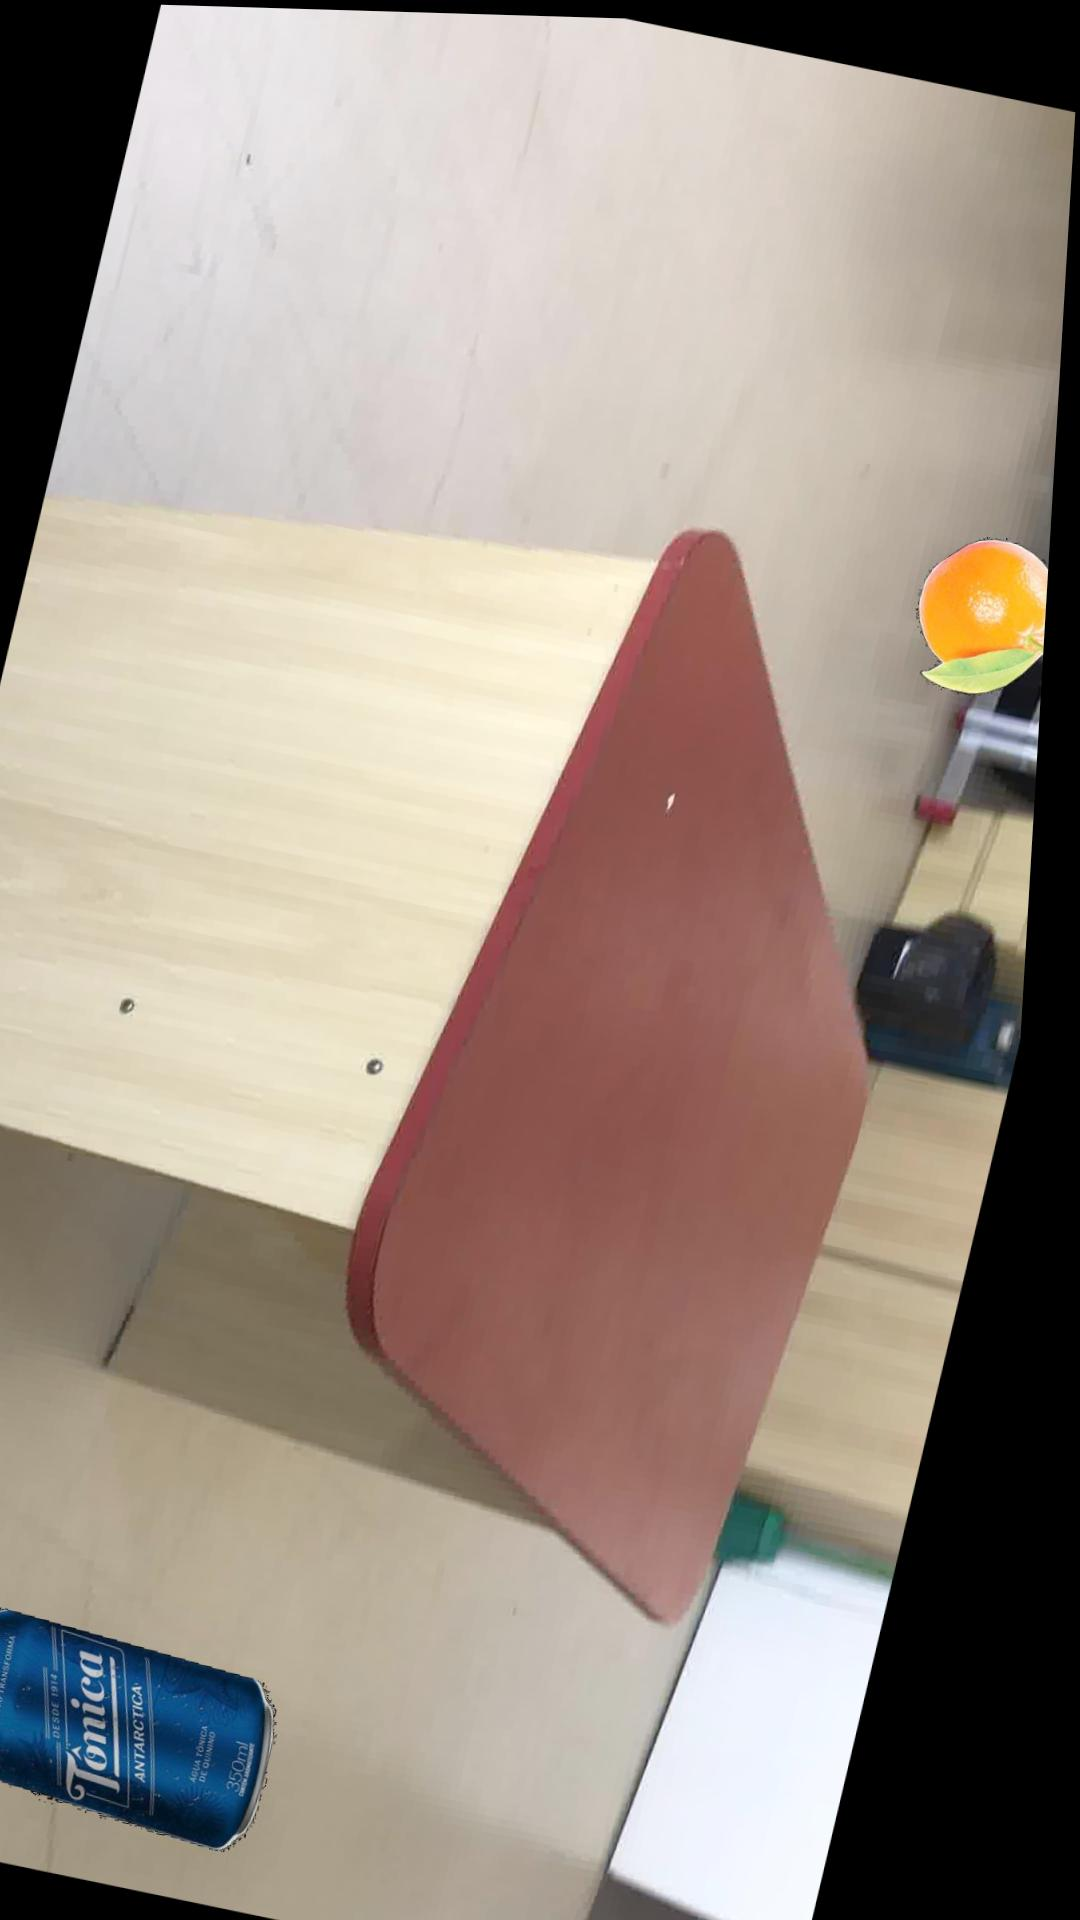orange: (922, 530, 1055, 687)
tonic: (0, 1605, 297, 1847)
